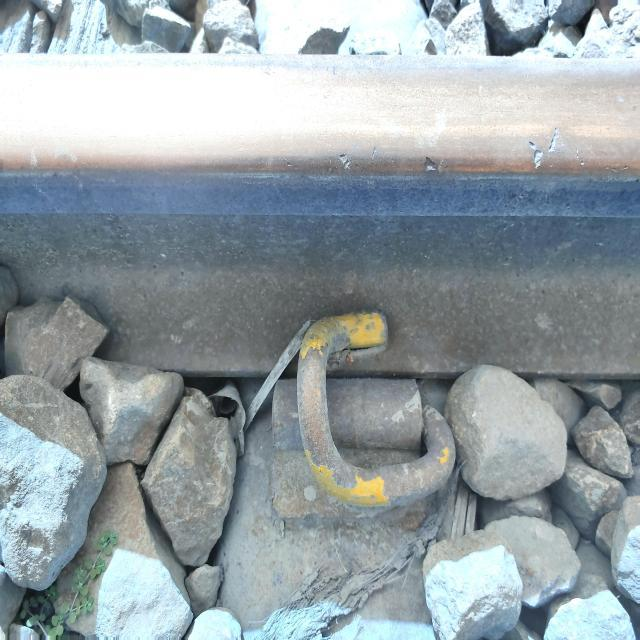Good Fasteners: (250, 282, 466, 557)
